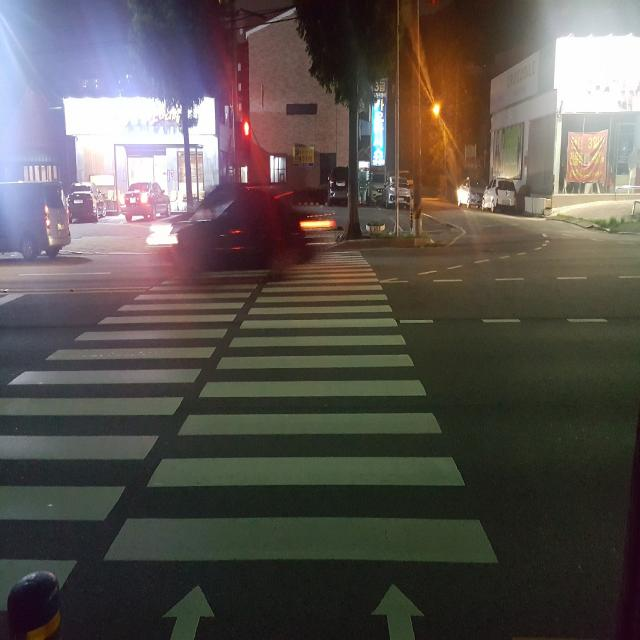빨간불: (240, 120, 251, 160)
횡단보도: (0, 245, 503, 640)
